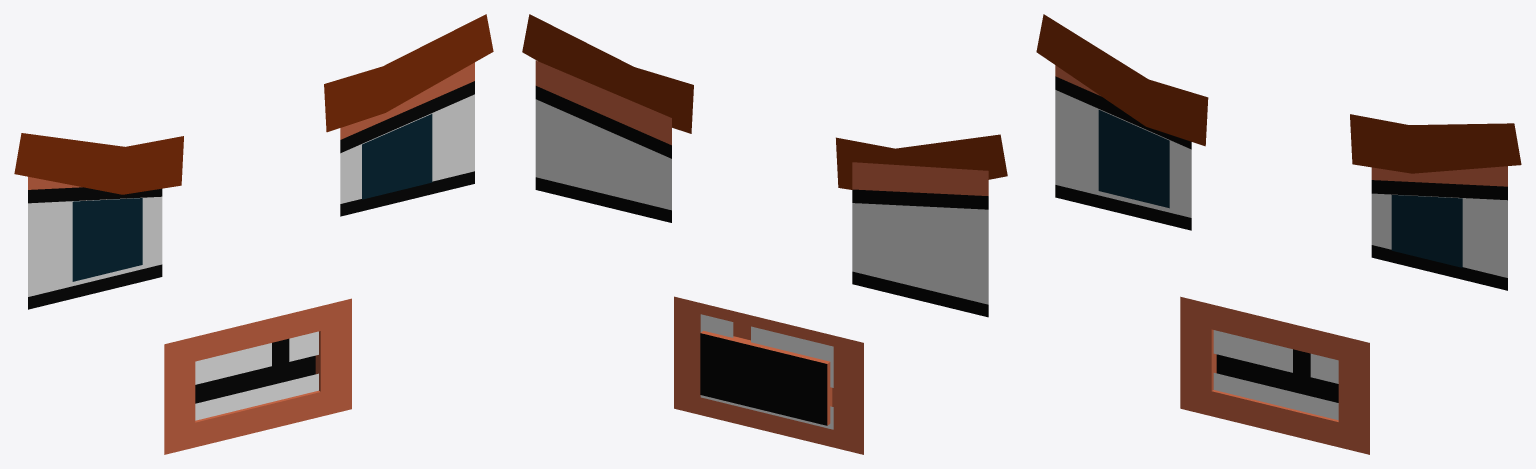
Rendered from Face Female 09.FBX.
The picture shows the model from 3 angles, left to right: view 1: azimuth 30°, elevation 25°; view 2: azimuth 150°, elevation 25°; view 3: azimuth 330°, elevation 25°; orthographic projection.
Visible parts, largest first — view 1: Face Female 09; view 2: Face Female 09; view 3: Face Female 09.
Boxes of the visible parts, bbox=[...] form: Face Female 09: bbox=[14, 14, 493, 454]; Face Female 09: bbox=[522, 14, 1007, 454]; Face Female 09: bbox=[1036, 14, 1521, 454].
Bounding box in the file's own units: 42.51 × 30.38 × 1.01.
